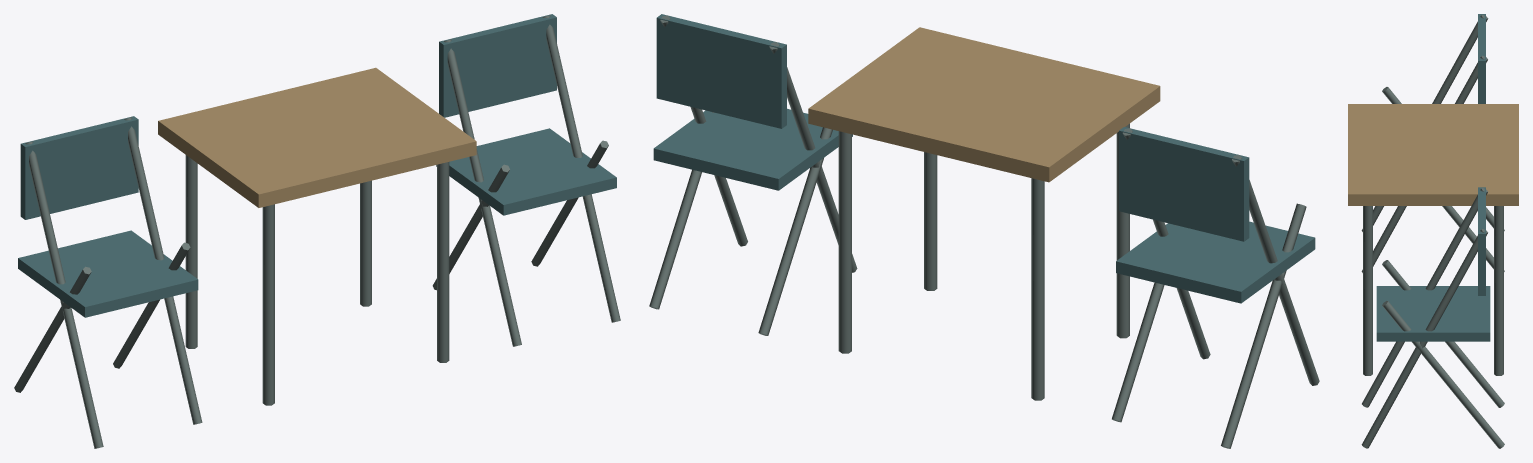
File: legacy-178.glb
3 views of the same model, side by side, from view 1: azimuth 30°, elevation 25°; view 2: azimuth 150°, elevation 25°; view 3: azimuth 270°, elevation 25° (orthographic). The views are drawn at different scales.
Visible parts, largest first — view 1: part-1, part-6, part-14, part-7, part-15, part-9, part-12, part-20, part-17, part-3, part-5, part-2 (+5 smaller); view 2: part-1, part-7, part-15, part-6, part-14, part-4, part-2, part-8, part-16, part-9, part-5, part-3 (+5 smaller); view 3: part-1, part-14, part-20, part-4, part-5, part-17, part-19, part-16, part-12, part-9, part-15, part-7 (+2 smaller).
Part boxes in pixels (<box>): part-1: <box>158,67,476,207</box>; part-6: <box>18,230,198,317</box>; part-14: <box>436,128,616,215</box>; part-7: <box>20,116,138,219</box>; part-15: <box>439,14,556,117</box>; part-9: <box>25,141,103,448</box>; part-12: <box>124,117,202,424</box>; part-20: <box>542,15,620,322</box>; part-17: <box>444,39,521,346</box>; part-3: <box>262,204,274,405</box>; part-5: <box>437,162,449,362</box>; part-2: <box>185,155,197,348</box>; part-1: <box>808,27,1160,182</box>; part-7: <box>1119,127,1249,241</box>; part-15: <box>656,14,786,128</box>; part-6: <box>1116,221,1315,303</box>; part-14: <box>653,108,852,190</box>; part-4: <box>838,131,851,353</box>; part-2: <box>1031,178,1044,400</box>; part-8: <box>1221,203,1306,448</box>; part-16: <box>758,127,832,335</box>; part-9: <box>1232,155,1319,385</box>; part-5: <box>924,152,937,290</box>; part-3: <box>1116,123,1129,338</box>; part-1: <box>1348,104,1518,205</box>; part-14: <box>1376,286,1490,341</box>; part-20: <box>1361,229,1487,448</box>; part-4: <box>1494,206,1503,375</box>; part-5: <box>1363,206,1372,375</box>; part-17: <box>1362,188,1487,407</box>; part-19: <box>1382,301,1504,448</box>; part-16: <box>1382,260,1504,407</box>; part-12: <box>1361,55,1487,272</box>; part-9: <box>1361,15,1488,231</box>; part-15: <box>1478,187,1485,295</box>; part-7: <box>1478,14,1485,103</box>.
Size of the model in its own units: 1.83 by 0.8496 by 0.6.
